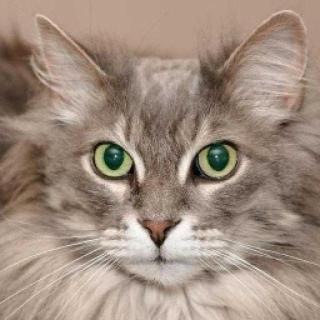cat: (29, 8, 307, 304)
nose: (134, 194, 188, 255)
